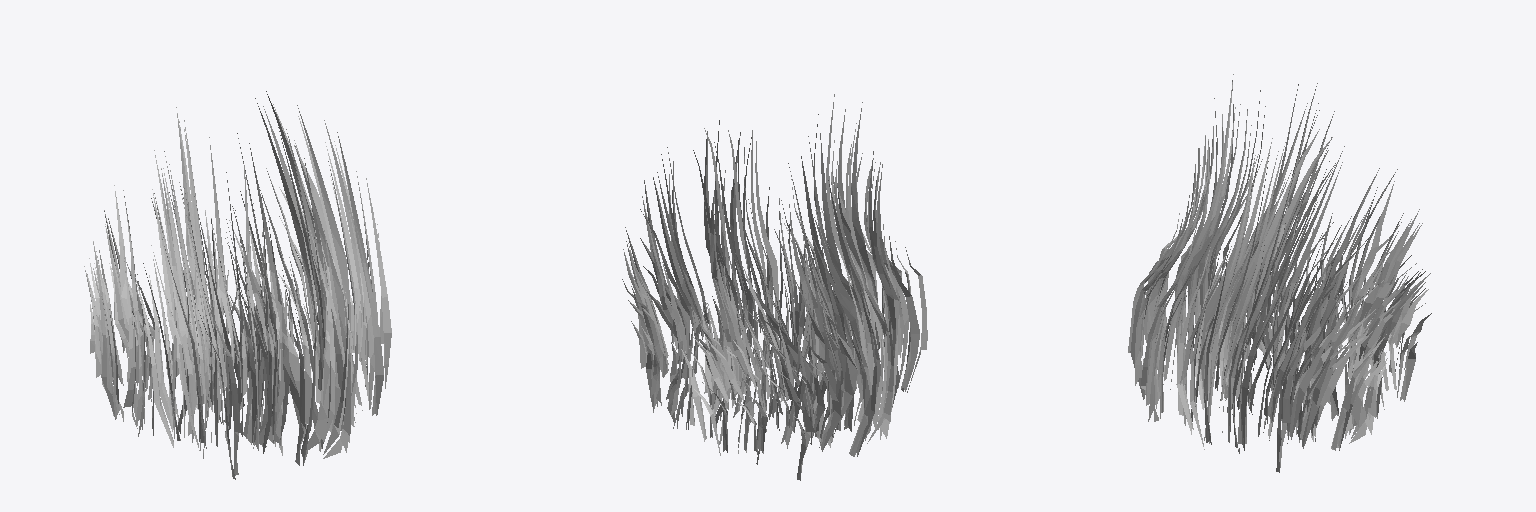
Rendered from grassPatch.obj.
The picture shows the model from 3 angles: view 1: azimuth 30°, elevation 25°; view 2: azimuth 150°, elevation 25°; view 3: azimuth 270°, elevation 25°; orthographic projection.
Visible parts, largest first — view 1: Grass; view 2: Grass; view 3: Grass.
Part boxes in pixels (bbox=[...]): Grass: bbox=[84, 91, 391, 479]; Grass: bbox=[622, 94, 927, 480]; Grass: bbox=[1128, 74, 1431, 472].
Bounding box in the file's own units: 0.02 × 0.0233 × 0.02.